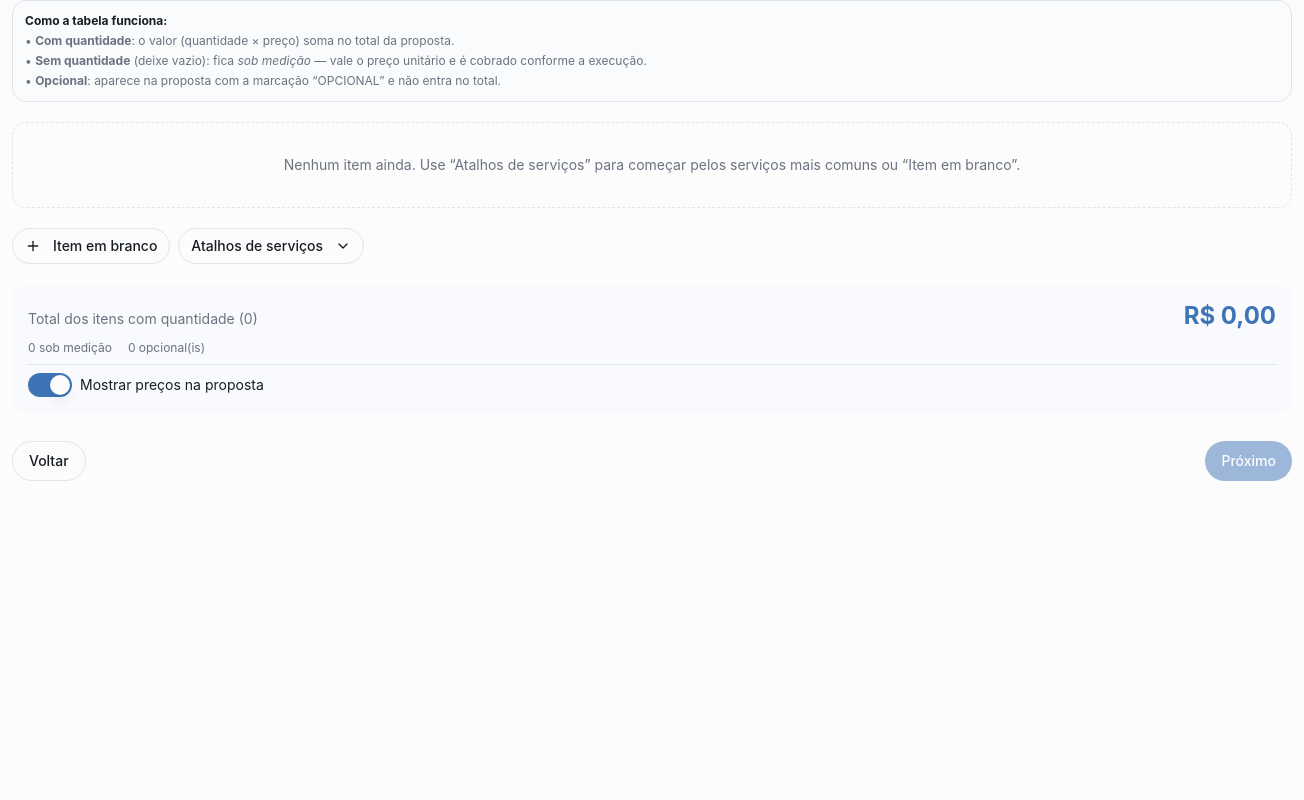
etapa de preços › item em branco: aparece como 2.1 e libera o botão Próximo
Click the button "Item em branco": (91,246) 12,228 -> 170,264
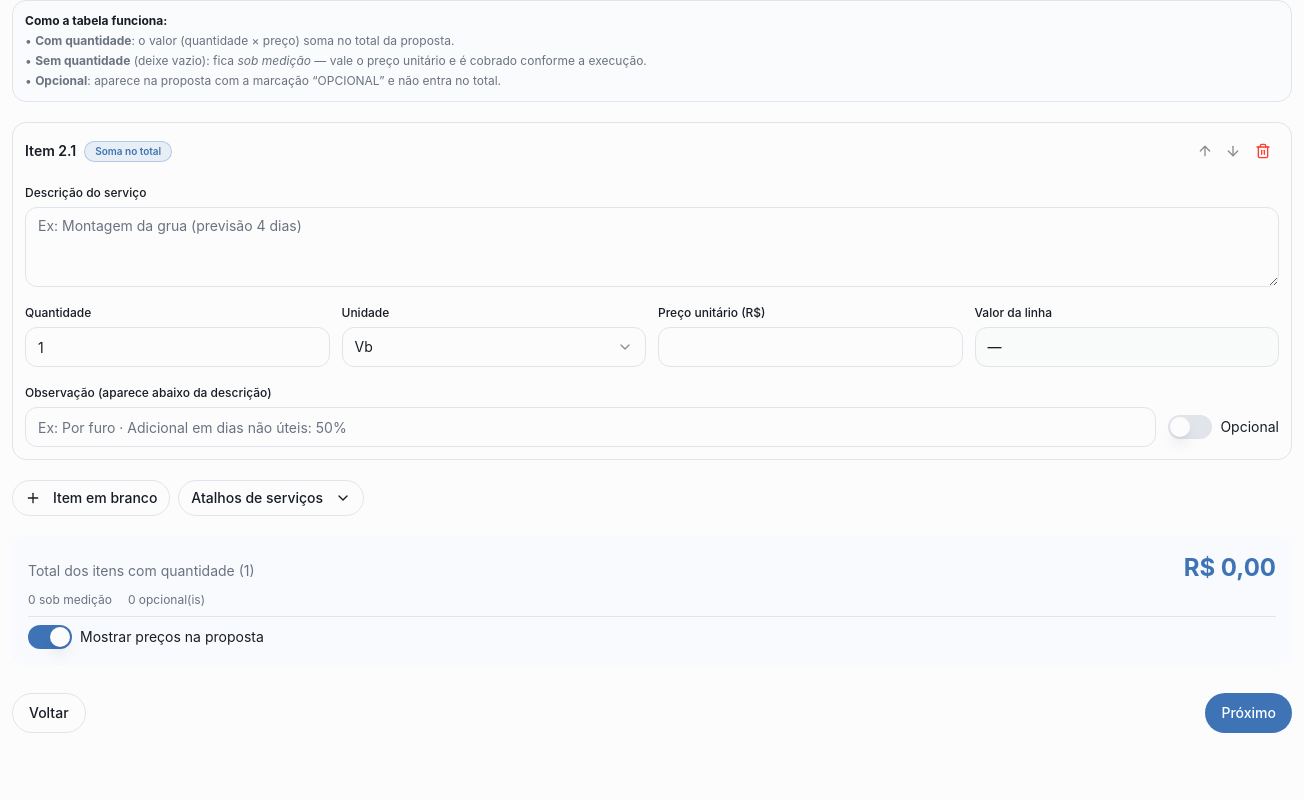
Expected: the text "Item 2.1" is shown, 25,141 -> 76,161
Expected: the button "Próximo" is enabled, 1206,693 -> 1292,733
